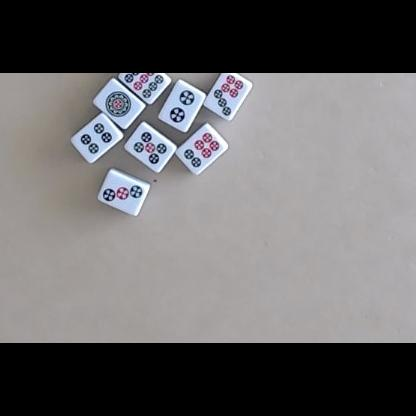1p: (105, 91, 132, 118)
2p: (169, 89, 195, 123)
3p: (103, 185, 143, 202)
4p: (79, 122, 113, 154)
5p: (133, 131, 168, 165)
6p: (183, 131, 221, 169)
7p: (214, 74, 244, 117)
9p: (124, 73, 164, 98)
